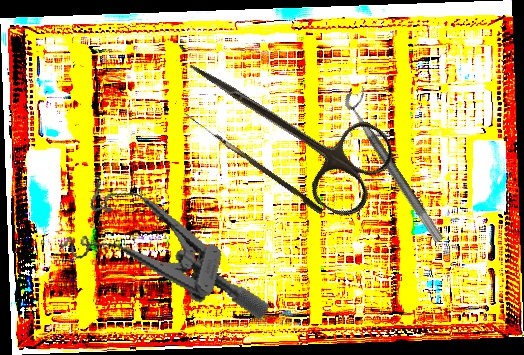Fixation Ring: (340, 85, 457, 244)
Hook Surgical: (179, 112, 326, 215)
Iris Scissors: (163, 28, 402, 225)
Speculum: (52, 175, 289, 321)
